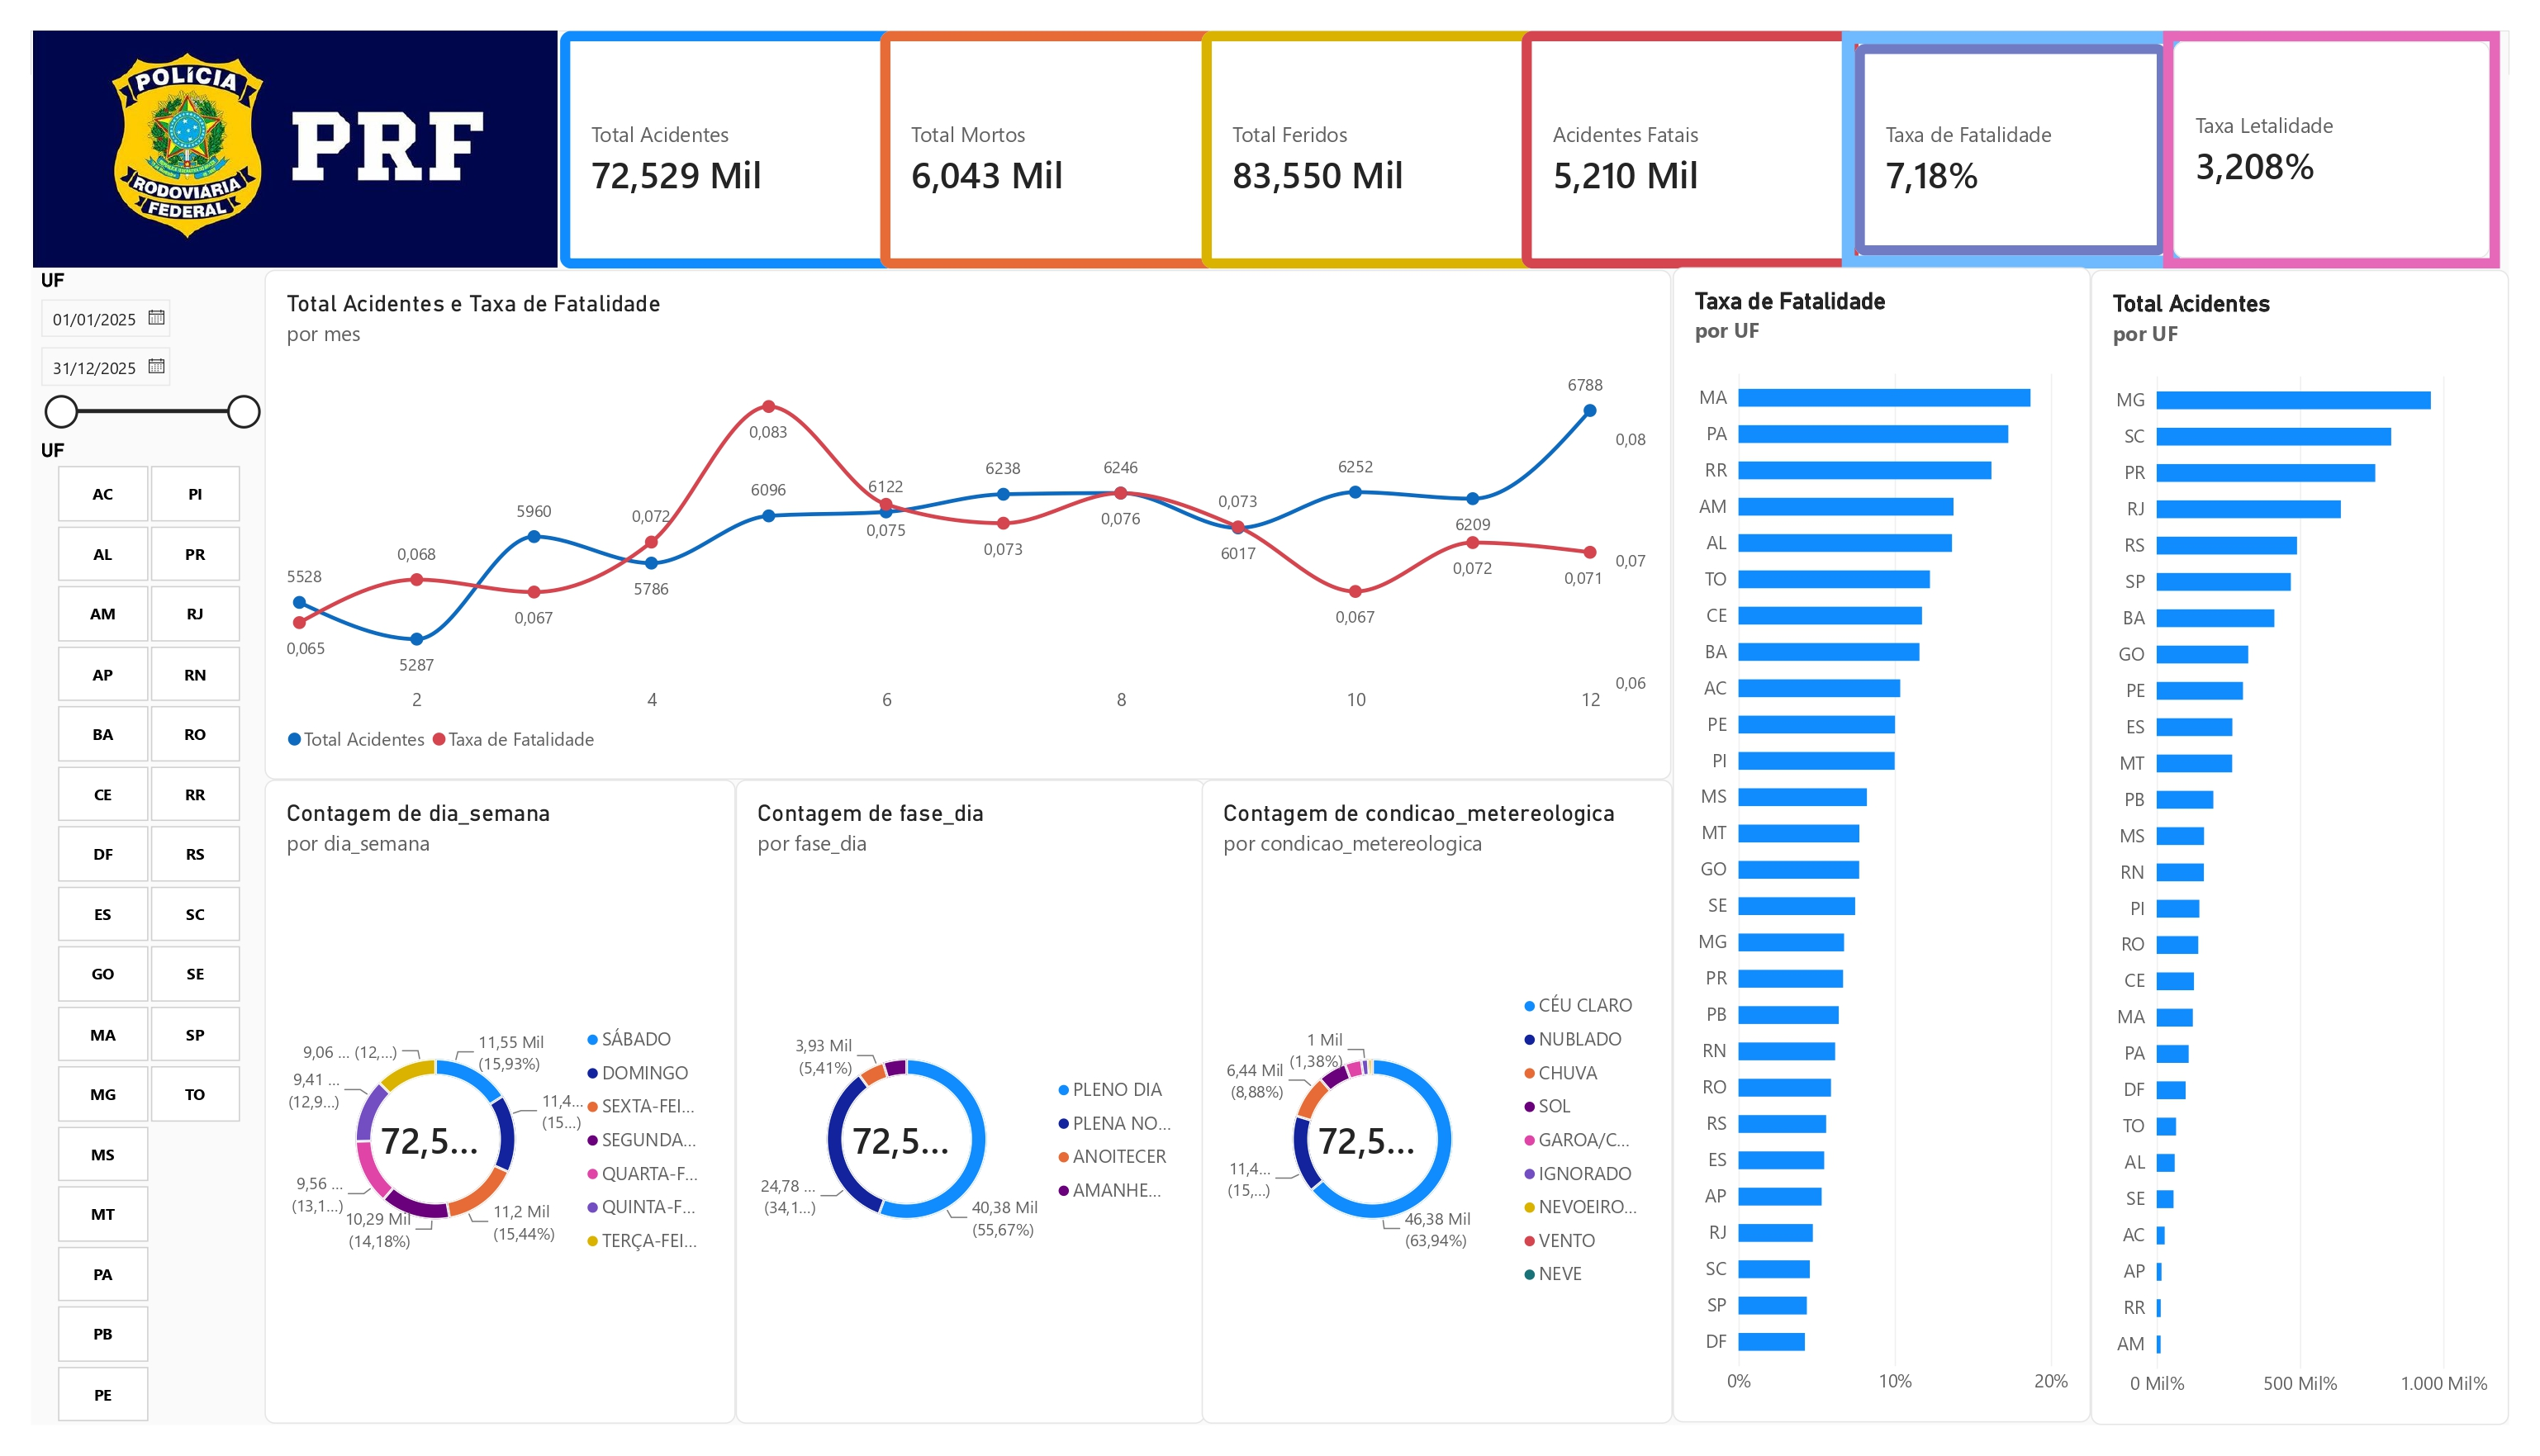

This screenshot's page, from the dashboard's own definition file:
{"tool":"powerbi","page":{"name":"Geral 2","canvas":[1920,1080],"ordinal":1},"visuals":[{"type":"image","box":[0,0,410.3,183.2],"z":0},{"type":"cardVisual","fields":{"Data":["base_analitica_prf_2025.Total_Acidentes"]},"box":[409.8,0,261.4,184],"z":0,"group":"g1"},{"type":"donutChart","fields":{"Category":["base_analitica_prf_2025.dia_semana"],"Y":["CountNonNull(base_analitica_prf_2025.dia_semana)"]},"box":[180.5,579.8,364.7,498.7],"z":0,"group":"g2"},{"type":"cardVisual","fields":{"Data":["base_analitica_prf_2025.Total_Mortos"]},"box":[658.1,0,261.4,184],"z":1000,"group":"g1"},{"type":"lineChart","fields":{"Category":["base_analitica_prf_2025.mes"],"Y":["base_analitica_prf_2025.Total Acidentes"],"Y2":["base_analitica_prf_2025.Taxa de Fatalidade"]},"box":[180.5,185.1,1090.8,394.7],"z":1000},{"type":"donutChart","fields":{"Category":["base_analitica_prf_2025.fase_dia"],"Y":["CountNonNull(base_analitica_prf_2025.fase_dia)"]},"box":[545.3,579.8,364.7,498.7],"z":1000,"group":"g2"},{"type":"group","id":"g1","title":"Grupo 1","box":[409.8,0,1502,183.7],"z":2000},{"type":"cardVisual","fields":{"Data":["base_analitica_prf_2025.Total_Feridos"]},"box":[906.5,0,261.4,184],"z":2000,"group":"g1"},{"type":"donutChart","fields":{"Category":["base_analitica_prf_2025.condicao_metereologica"],"Y":["CountNonNull(base_analitica_prf_2025.condicao_metereologica)"]},"box":[906.6,579.8,364.7,498.7],"z":2000,"group":"g2"},{"type":"cardVisual","fields":{"Data":["base_analitica_prf_2025.Acidentes_Fatais"]},"box":[1154.8,0,261.4,184],"z":3000,"group":"g1"},{"type":"slicer","fields":{"Values":["base_analitica_prf_2025.data_inversa"]},"box":[0,185.1,180.5,168.3],"z":3000},{"type":"cardVisual","fields":{"Data":["base_analitica_prf_2025.Porcentagem_Fatal"]},"box":[1403.2,0,261.4,184],"z":4000,"group":"g1"},{"type":"barChart","title":"Total Acidentes","fields":{"Category":["base_analitica_prf_2025.uf"],"Y":["base_analitica_prf_2025.Total Acidentes"]},"box":[1596,184.7,324,894.9],"z":4000},{"type":"cardVisual","fields":{"Data":["base_analitica_prf_2025.Taxa Letalidade"]},"box":[1651.3,0,261.4,184],"z":5000,"group":"g1"},{"type":"barChart","title":"Taxa de Fatalidade","fields":{"Category":["base_analitica_prf_2025.uf"],"Y":["base_analitica_prf_2025.Taxa de Fatalidade"]},"box":[1271.9,183.2,324,894.9],"z":5000},{"type":"group","id":"g2","title":"Grupo 2","box":[180.5,579.8,1090.8,498.7],"z":6000},{"type":"slicer","fields":{"Values":["base_analitica_prf_2025.uf"]},"box":[0,316.7,180.5,761.9],"z":7000}]}

Visuals, with their boxes on the page's 1920x1080 design canvas (x1, y1, x2, y2). These are canvas units, not pixel positions in the 2540x1456 screenshot, which may show the page scaled, cropped or inside an application window:
image: <region>0, 0, 410, 183</region>
cardVisual - base_analitica_prf_2025.Total_Acidentes: <region>410, 0, 671, 184</region>
donutChart - base_analitica_prf_2025.dia_semana x CountNonNull(base_analitica_prf_2025.dia_semana): <region>180, 580, 545, 1078</region>
cardVisual - base_analitica_prf_2025.Total_Mortos: <region>658, 0, 920, 184</region>
lineChart - base_analitica_prf_2025.mes x base_analitica_prf_2025.Total Acidentes: <region>180, 185, 1271, 580</region>
donutChart - base_analitica_prf_2025.fase_dia x CountNonNull(base_analitica_prf_2025.fase_dia): <region>545, 580, 910, 1078</region>
"Grupo 1" group: <region>410, 0, 1912, 184</region>
cardVisual - base_analitica_prf_2025.Total_Feridos: <region>906, 0, 1168, 184</region>
donutChart - base_analitica_prf_2025.condicao_metereologica x CountNonNull(base_analitica_prf_2025.condicao_metereologica): <region>907, 580, 1271, 1078</region>
cardVisual - base_analitica_prf_2025.Acidentes_Fatais: <region>1155, 0, 1416, 184</region>
slicer - base_analitica_prf_2025.data_inversa: <region>0, 185, 180, 353</region>
cardVisual - base_analitica_prf_2025.Porcentagem_Fatal: <region>1403, 0, 1665, 184</region>
"Total Acidentes" barChart: <region>1596, 185, 1920, 1080</region>
cardVisual - base_analitica_prf_2025.Taxa Letalidade: <region>1651, 0, 1913, 184</region>
"Taxa de Fatalidade" barChart: <region>1272, 183, 1596, 1078</region>
"Grupo 2" group: <region>180, 580, 1271, 1078</region>
slicer - base_analitica_prf_2025.uf: <region>0, 317, 180, 1079</region>
